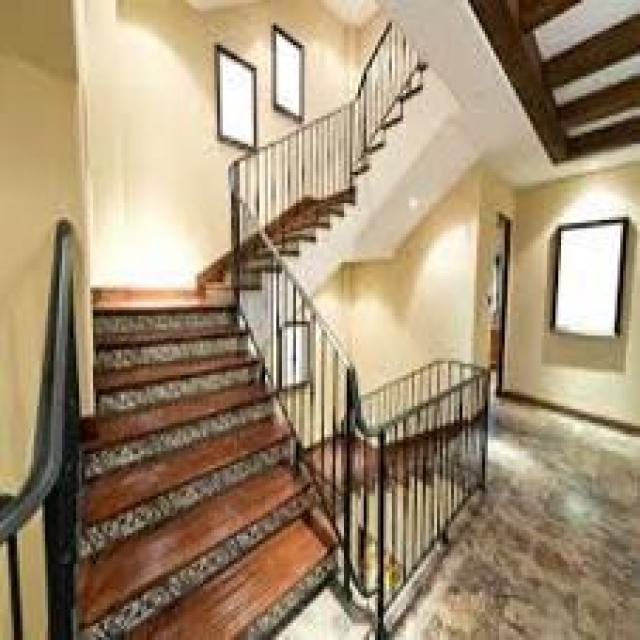upstair: (77, 376, 337, 618)
